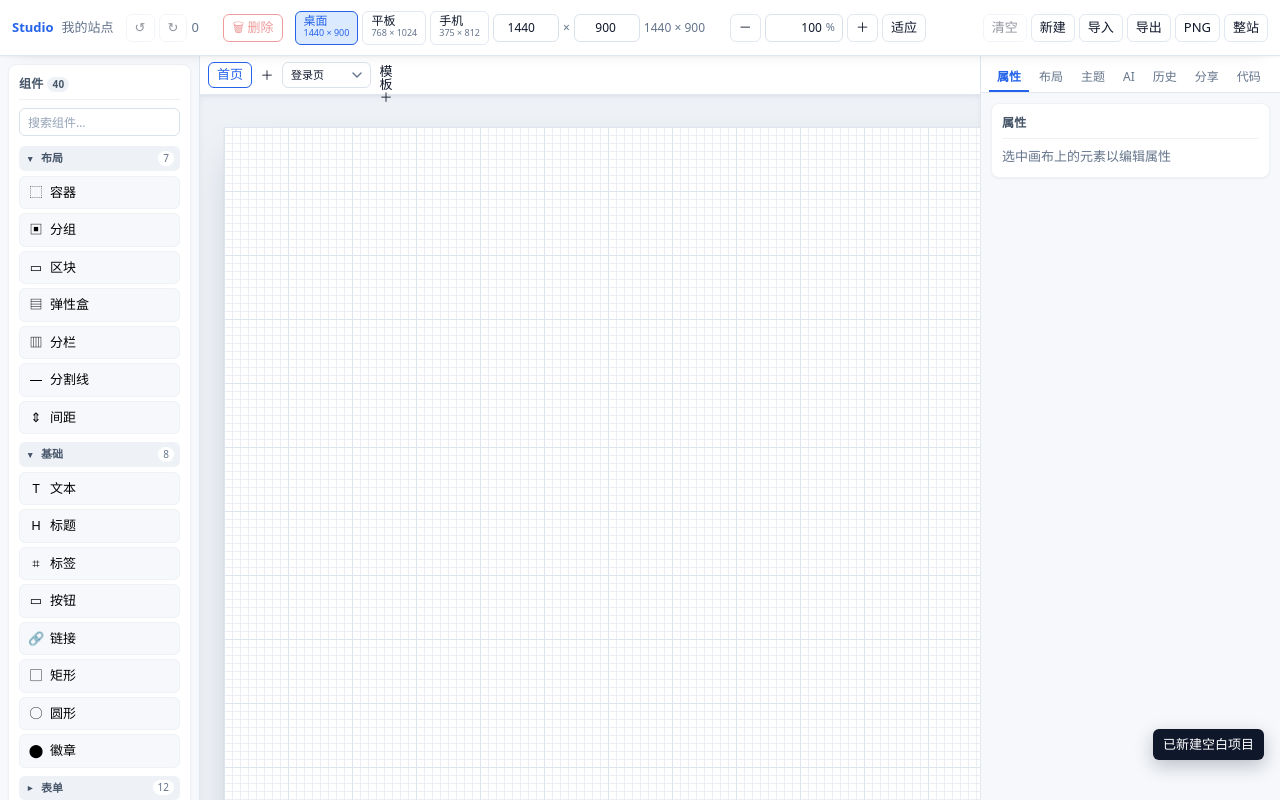
Test: M1 编辑器：画布交互与面板 › 缩放输入框显示当前百分比，可以直接输入任意数值，越界夹到 25%–200%
Expected: the number field named "画布缩放 25%–200%：可直接输入百分比，回车或失焦生效" holds "100", [765, 14, 843, 42]
Click the button "＋" in the row of "我的站点".
click(862, 28)  # box [847, 14, 878, 42]
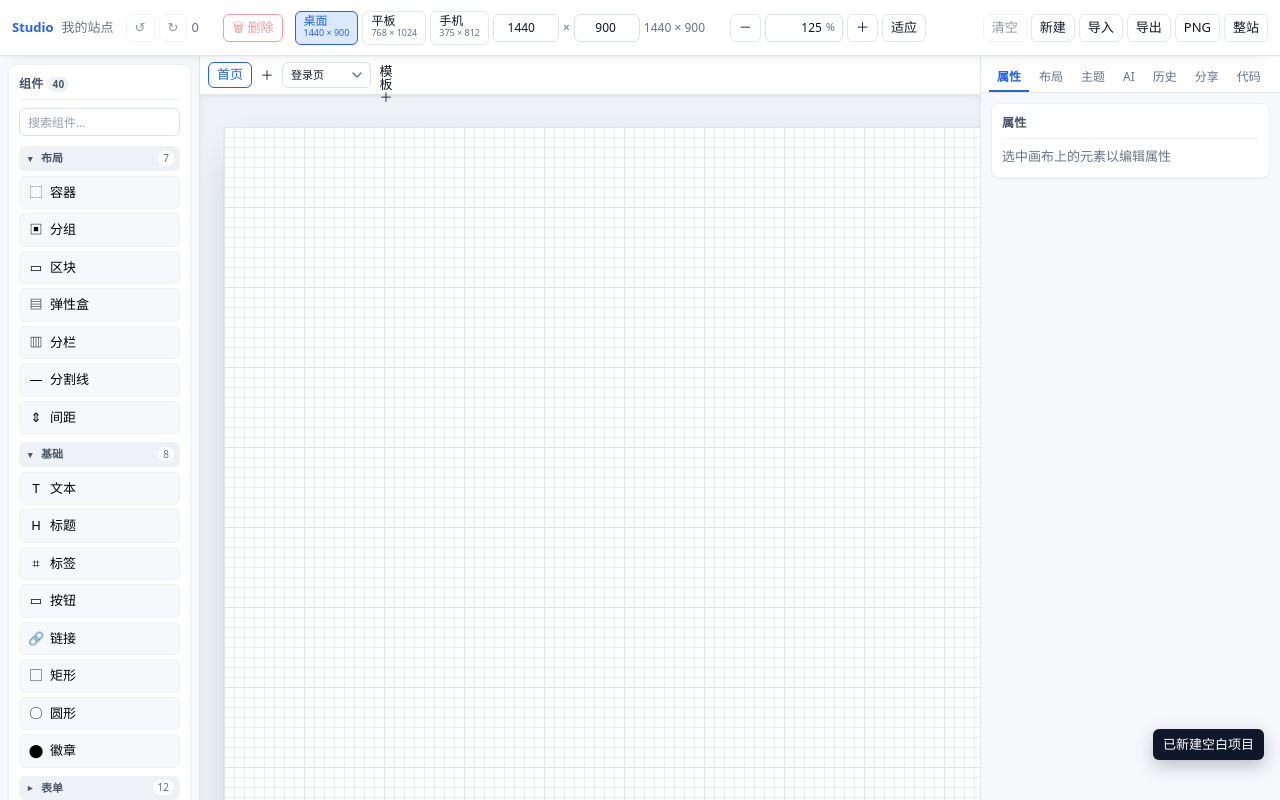
Now the number field named "画布缩放 25%–200%：可直接输入百分比，回车或失焦生效" holds "125"
Replace the text in the number field named "画布缩放 25%–200%：可直接输入百分比，回车或失焦生效" with "37" at (804, 28), box [765, 14, 843, 42]
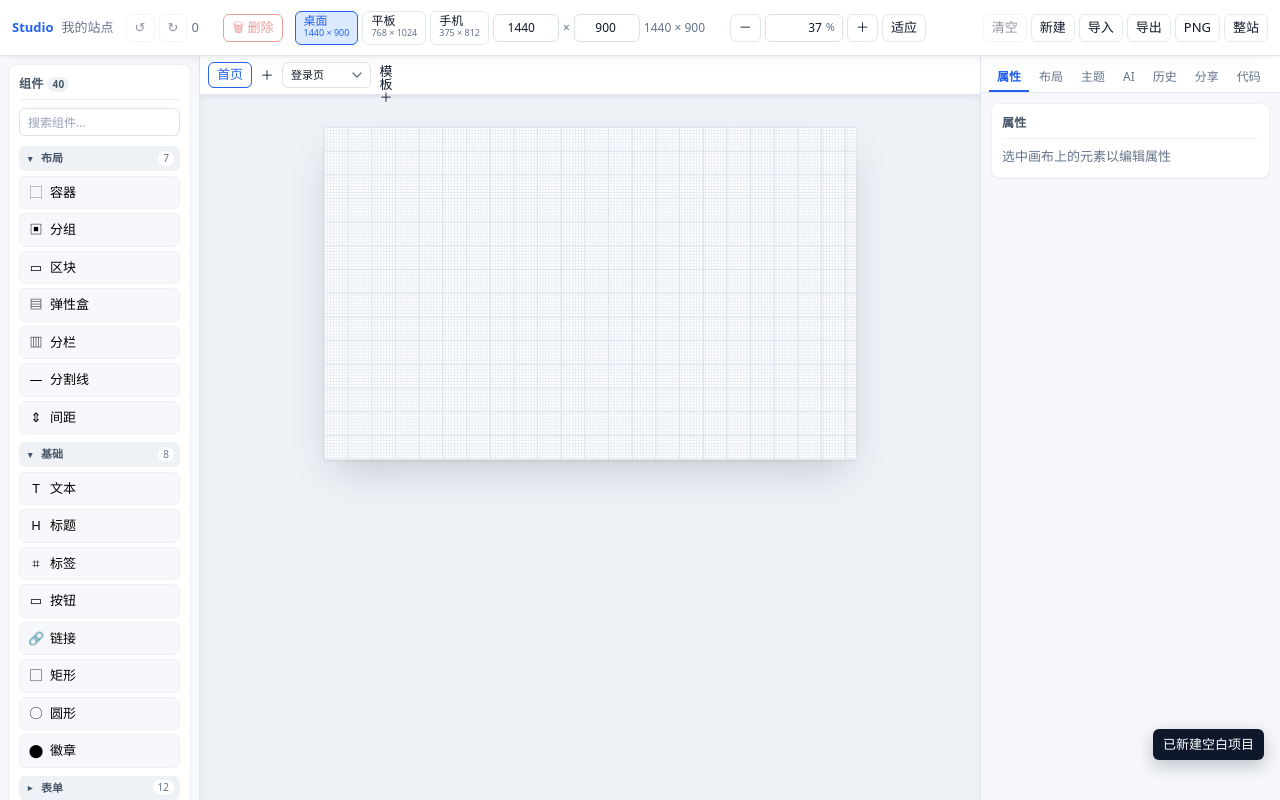
Clear the number field named "画布缩放 25%–200%：可直接输入百分比，回车或失焦生效" at (804, 28), box [765, 14, 843, 42]
Replace the text in the number field named "画布缩放 25%–200%：可直接输入百分比，回车或失焦生效" with "900" at (804, 28), box [765, 14, 843, 42]
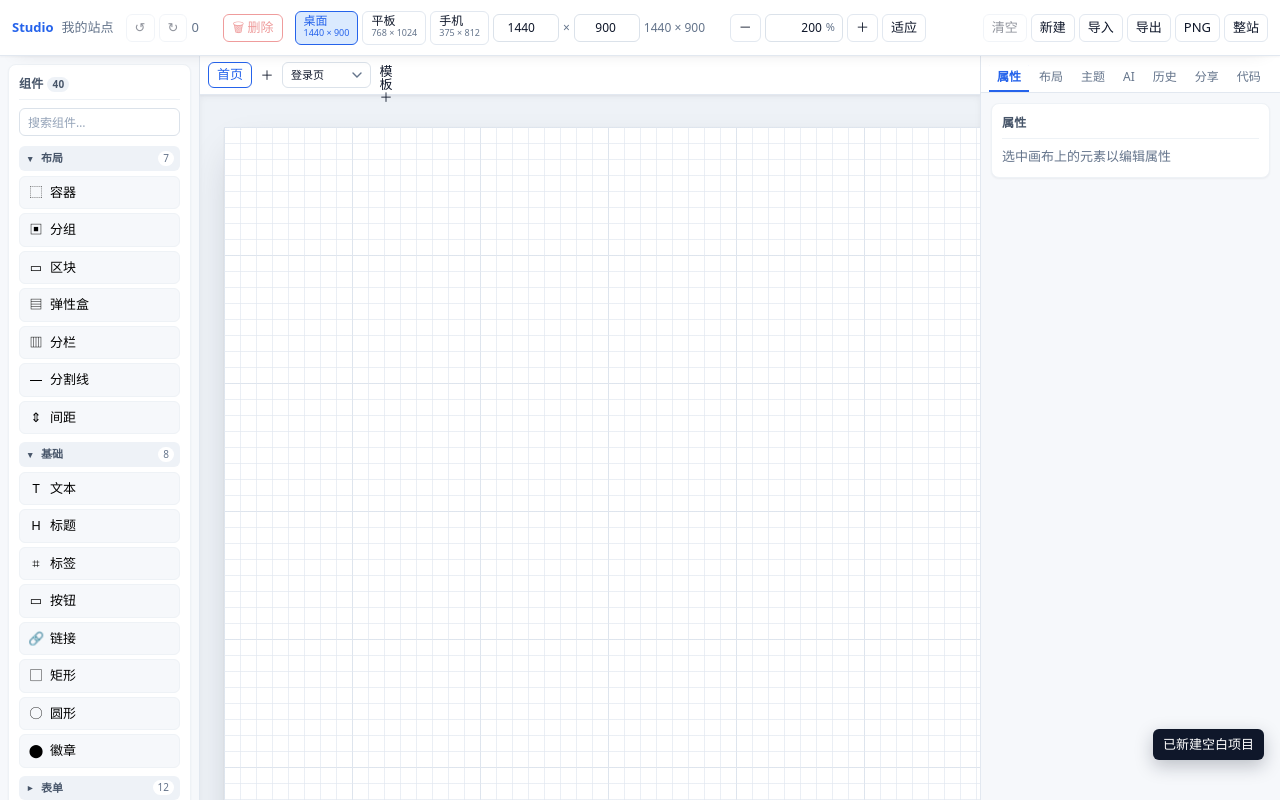
Now the number field named "画布缩放 25%–200%：可直接输入百分比，回车或失焦生效" holds "200"
Replace the text in the number field named "画布缩放 25%–200%：可直接输入百分比，回车或失焦生效" with "5" at (804, 28), box [765, 14, 843, 42]
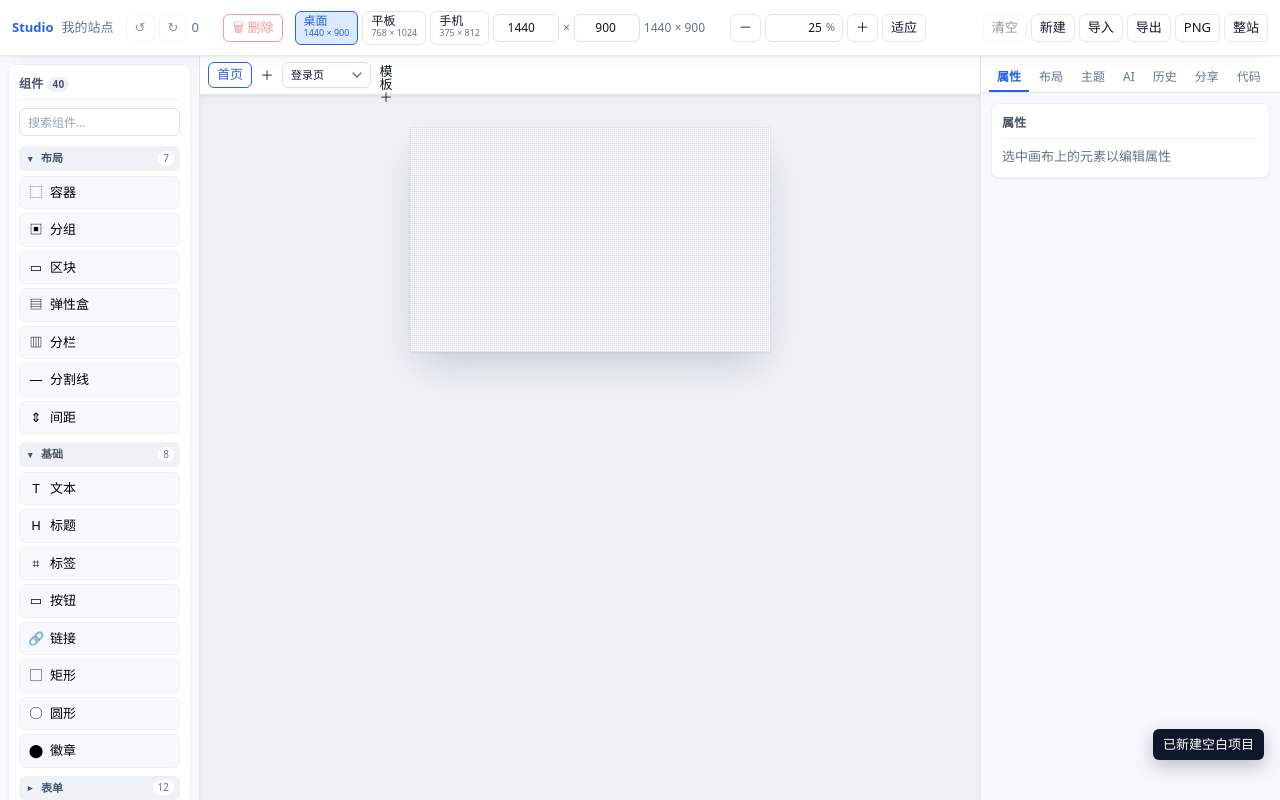
Now the number field named "画布缩放 25%–200%：可直接输入百分比，回车或失焦生效" holds "25", box [765, 14, 843, 42]
